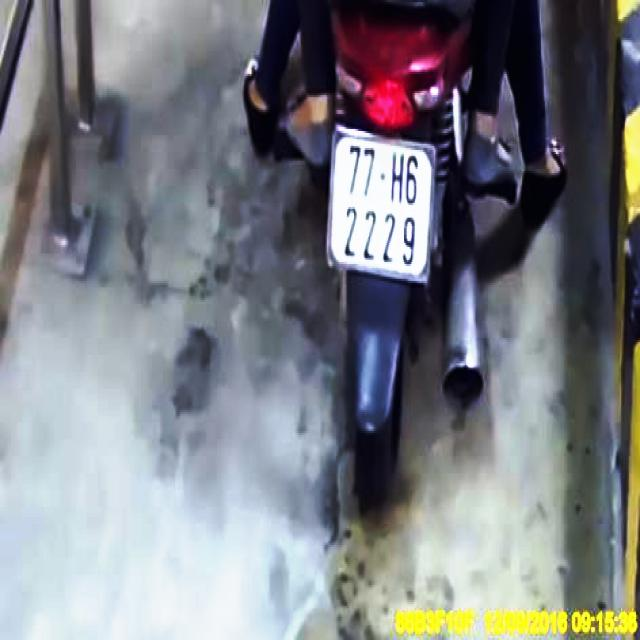license_plate: (327, 129, 435, 281)
